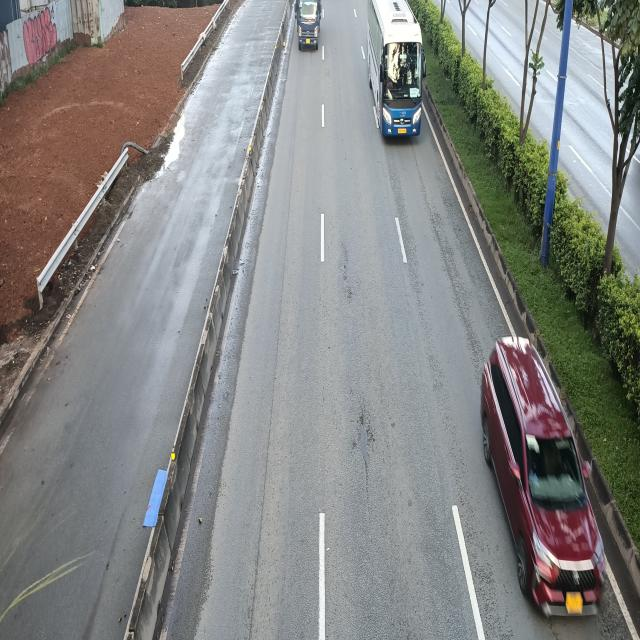car: (483, 333, 606, 616)
coach: (368, 1, 428, 142)
truck: (293, 0, 321, 50)
